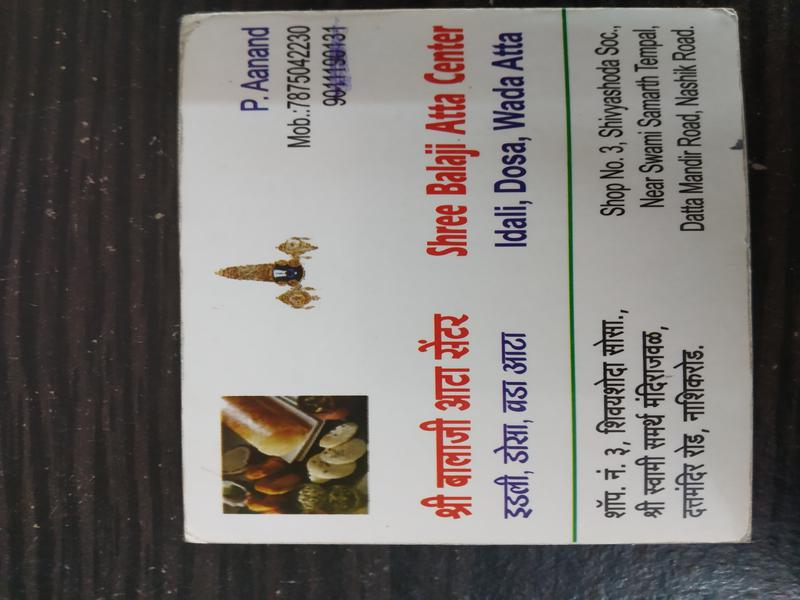card: (175, 1, 758, 553)
